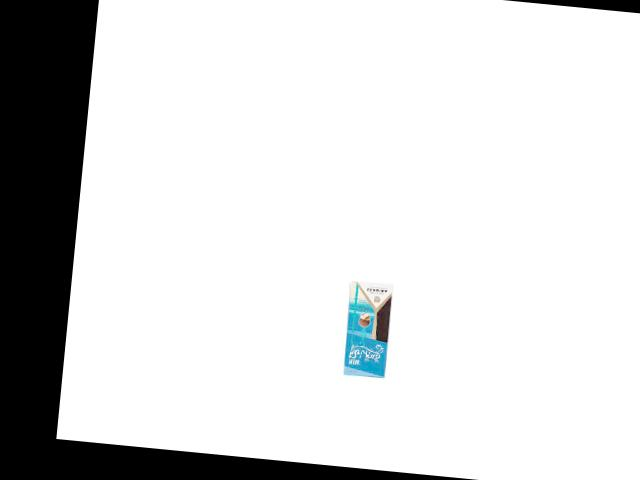chocolate: (340, 277, 396, 380)
